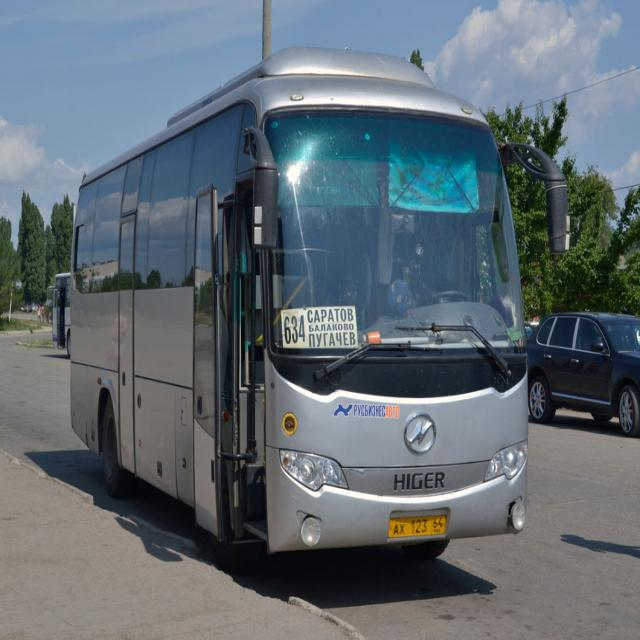number-of-bus: (283, 310, 308, 350)
